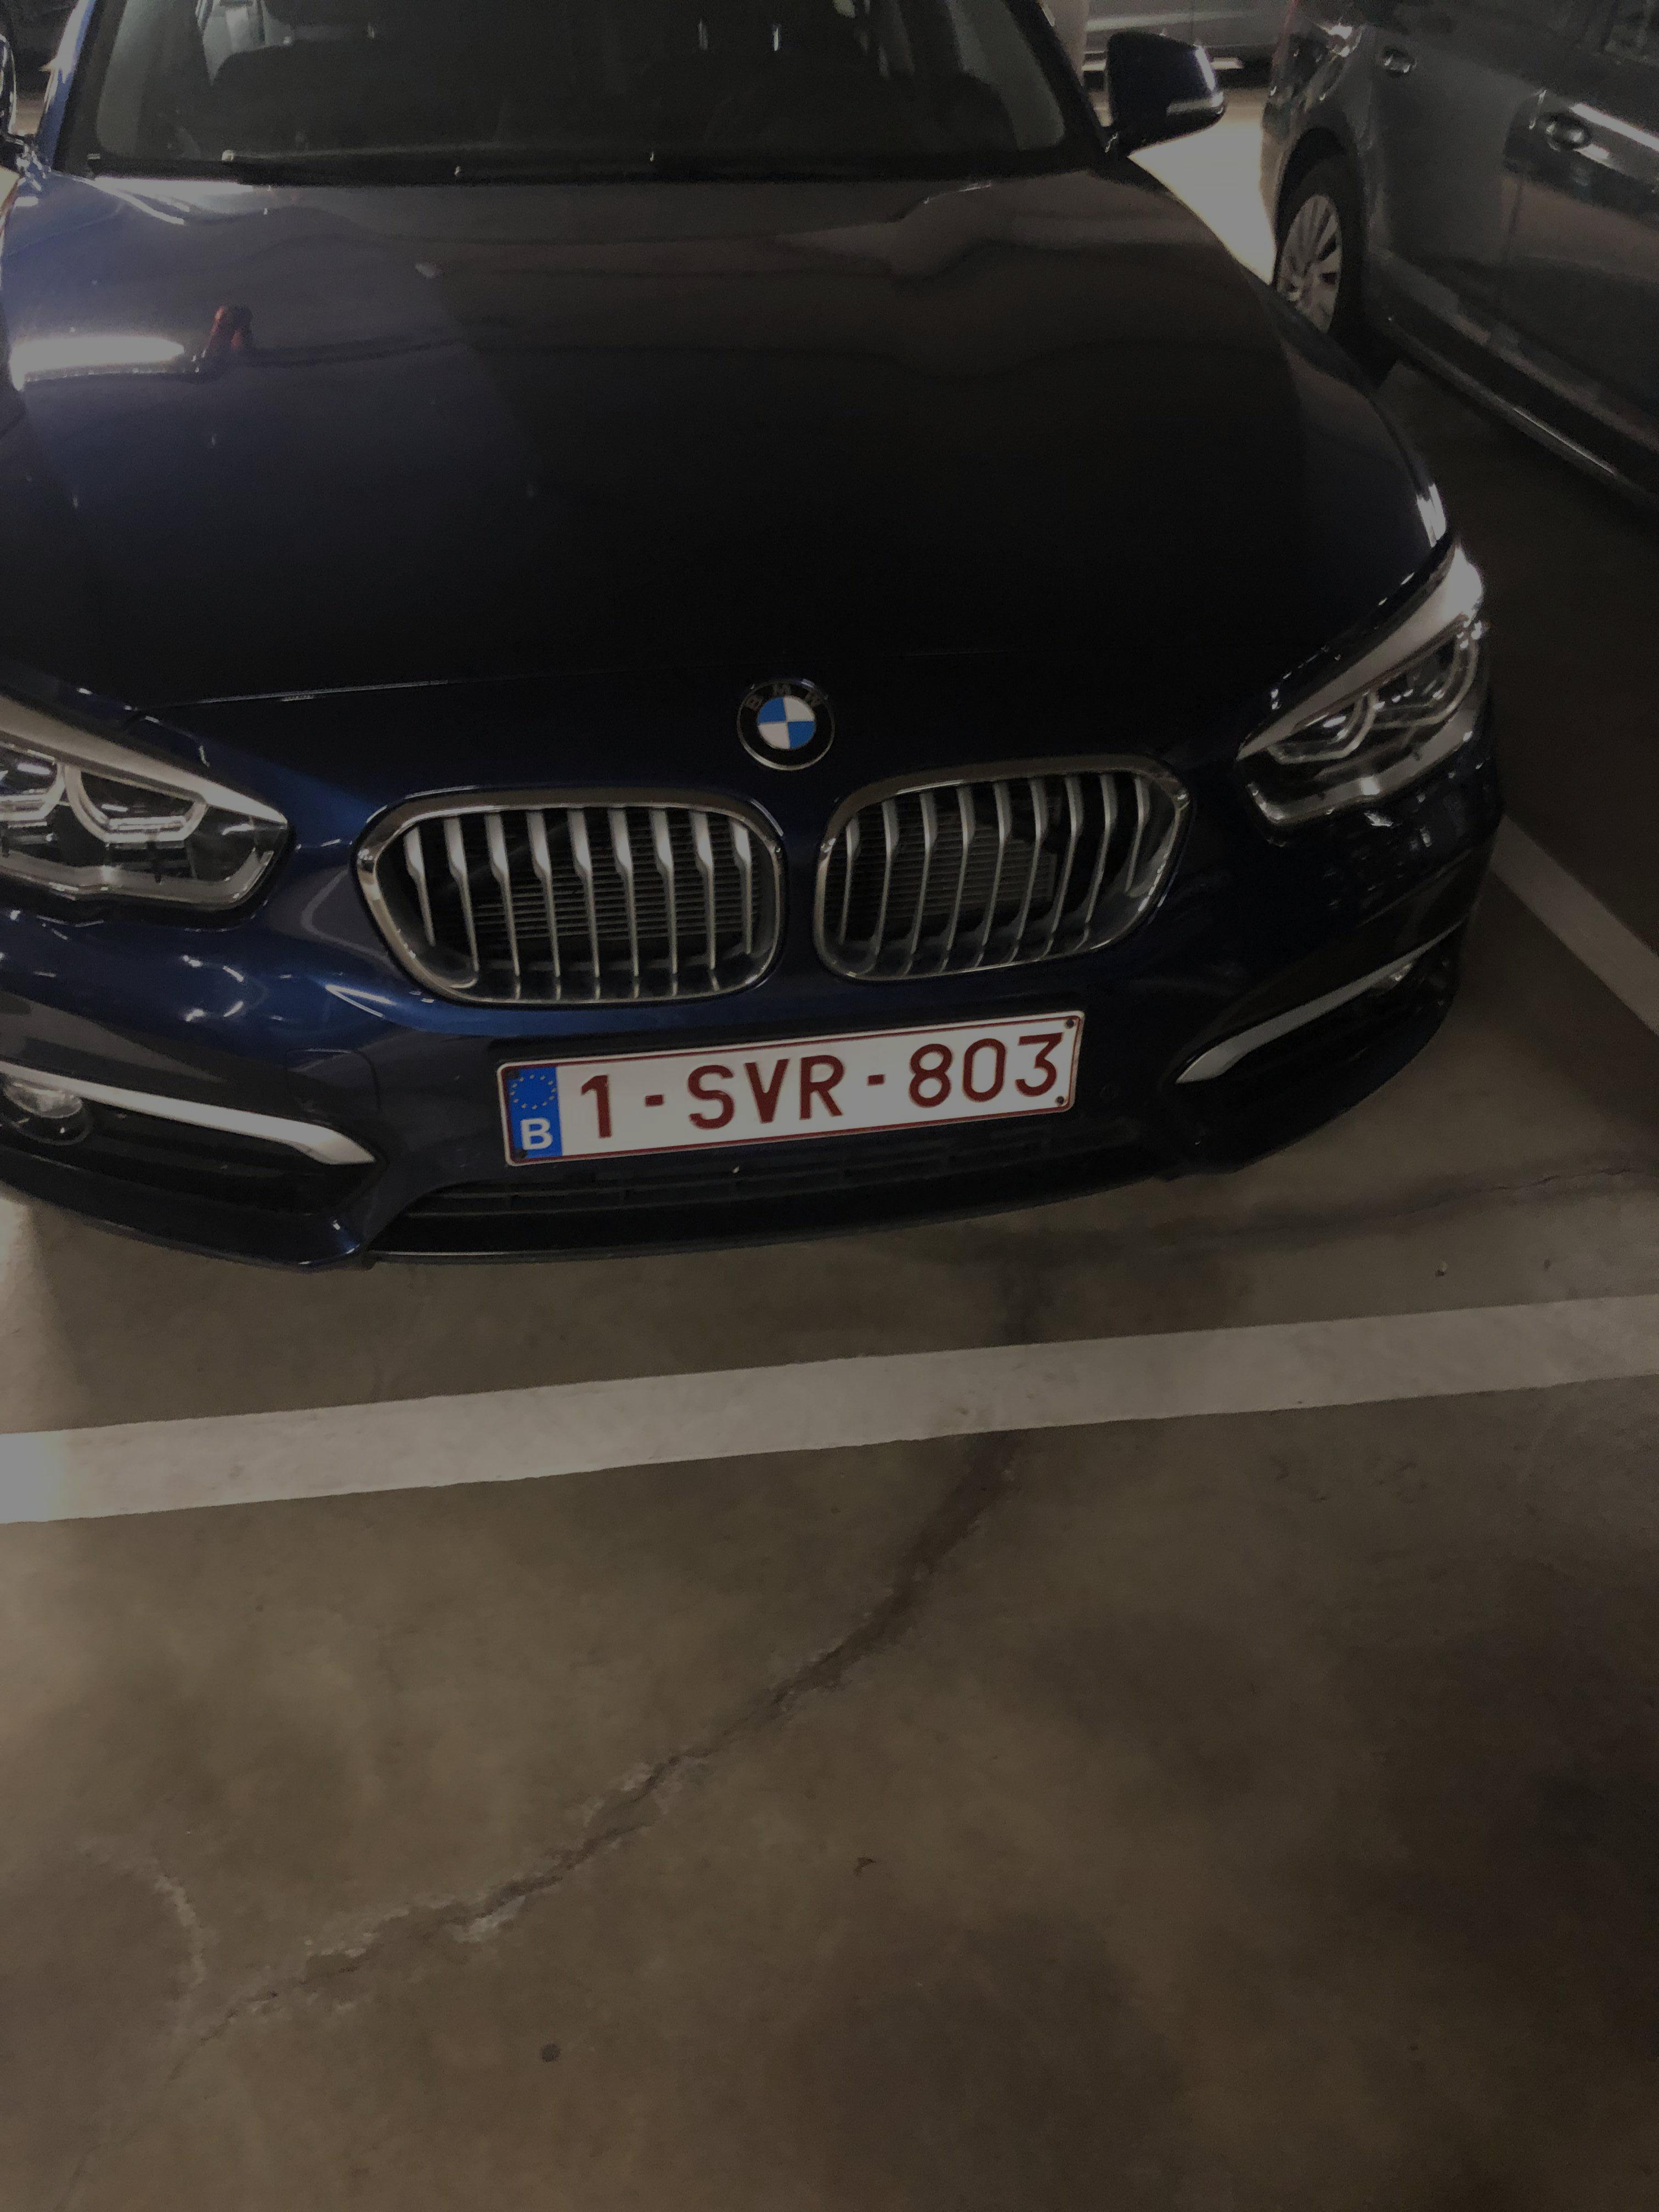plate: (473, 990, 1104, 1187)
